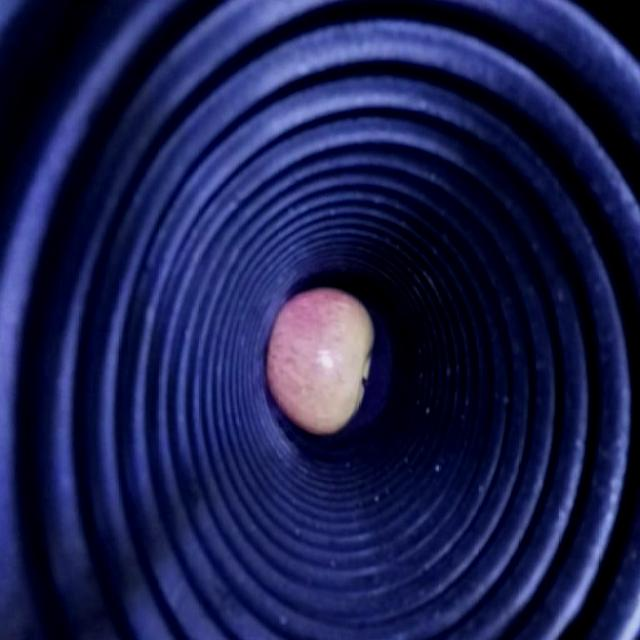obstacles: (266, 286, 373, 427)
